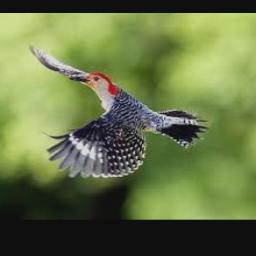Woodpecker: (29, 43, 207, 178)
